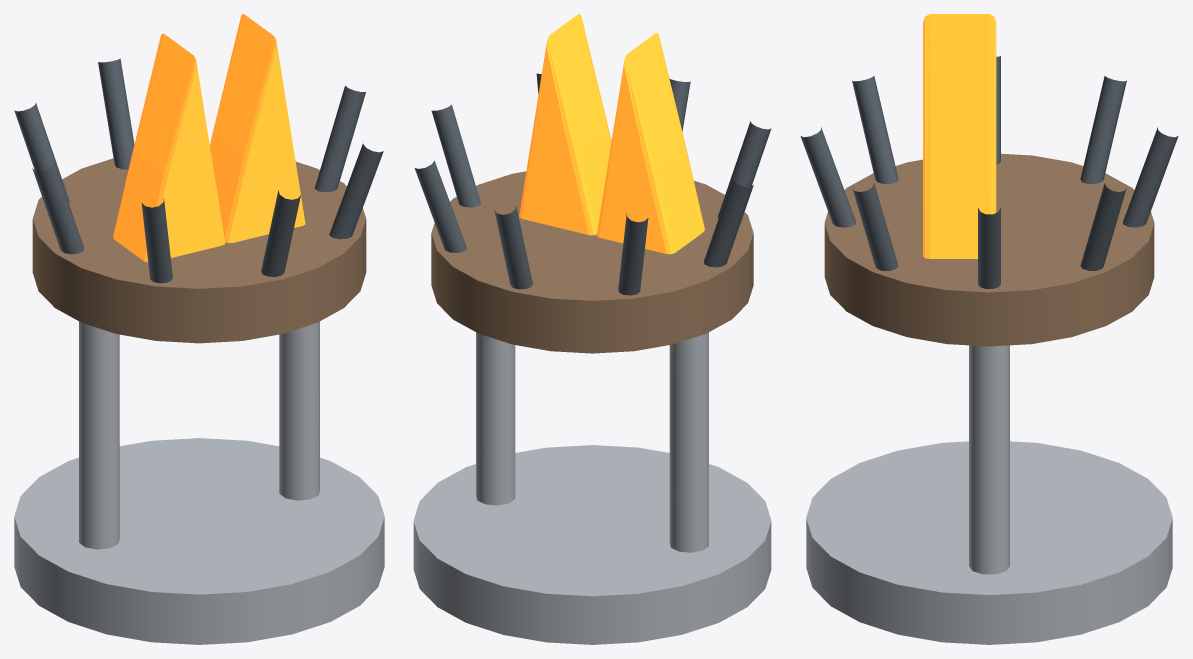
File: arena-shooter-map-kit-brazier-9f2215d5__23148.glb
3 renders of one model, left to right at view 1: azimuth 30°, elevation 25°; view 2: azimuth 150°, elevation 25°; view 3: azimuth 270°, elevation 25°, orthographic. The views are drawn at different scales.
Parts seen in each view (by area): view 1: brazier; view 2: brazier; view 3: brazier.
Boxes of the visible parts, <box> form: brazier: <box>14,14,384,644</box>; brazier: <box>413,14,771,644</box>; brazier: <box>800,14,1178,644</box>.
Bounding box in the file's own units: 0.8251 × 1.29 × 0.8251.
